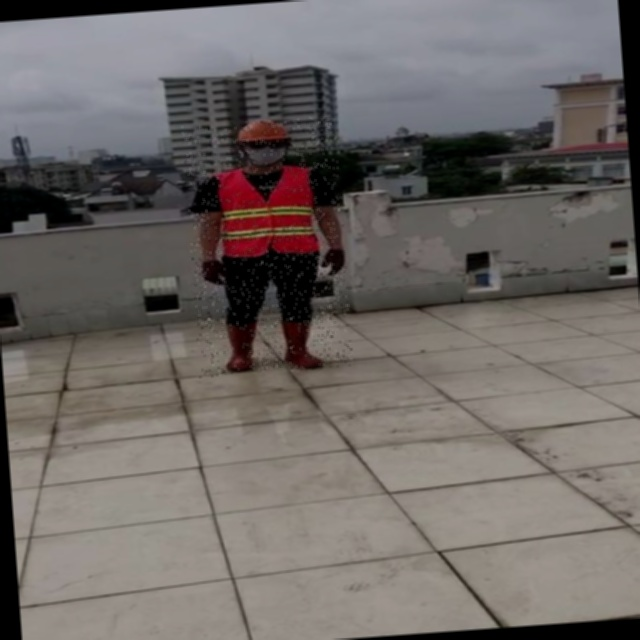boots: (282, 317, 320, 368), (222, 315, 258, 366)
gloves: (315, 234, 367, 284), (194, 237, 252, 281)
helmet: (248, 114, 304, 137)
vest: (230, 166, 324, 253)
